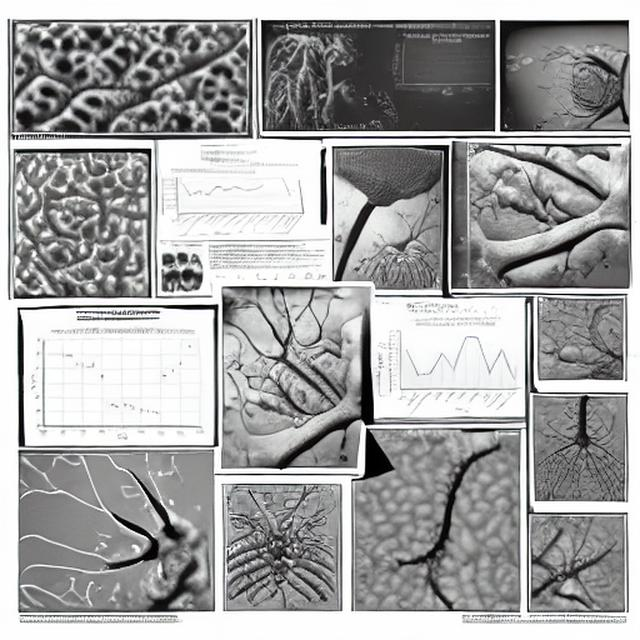Graph: (25, 325, 206, 443), (388, 314, 521, 415), (160, 168, 269, 233), (389, 32, 496, 97)
